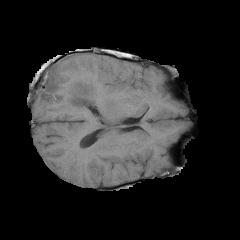glioma: (34, 60, 102, 116)
